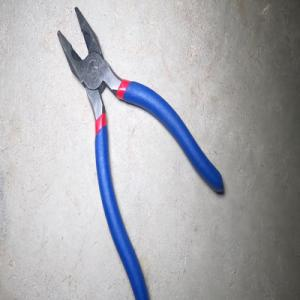Pliers: (56, 6, 224, 300)
